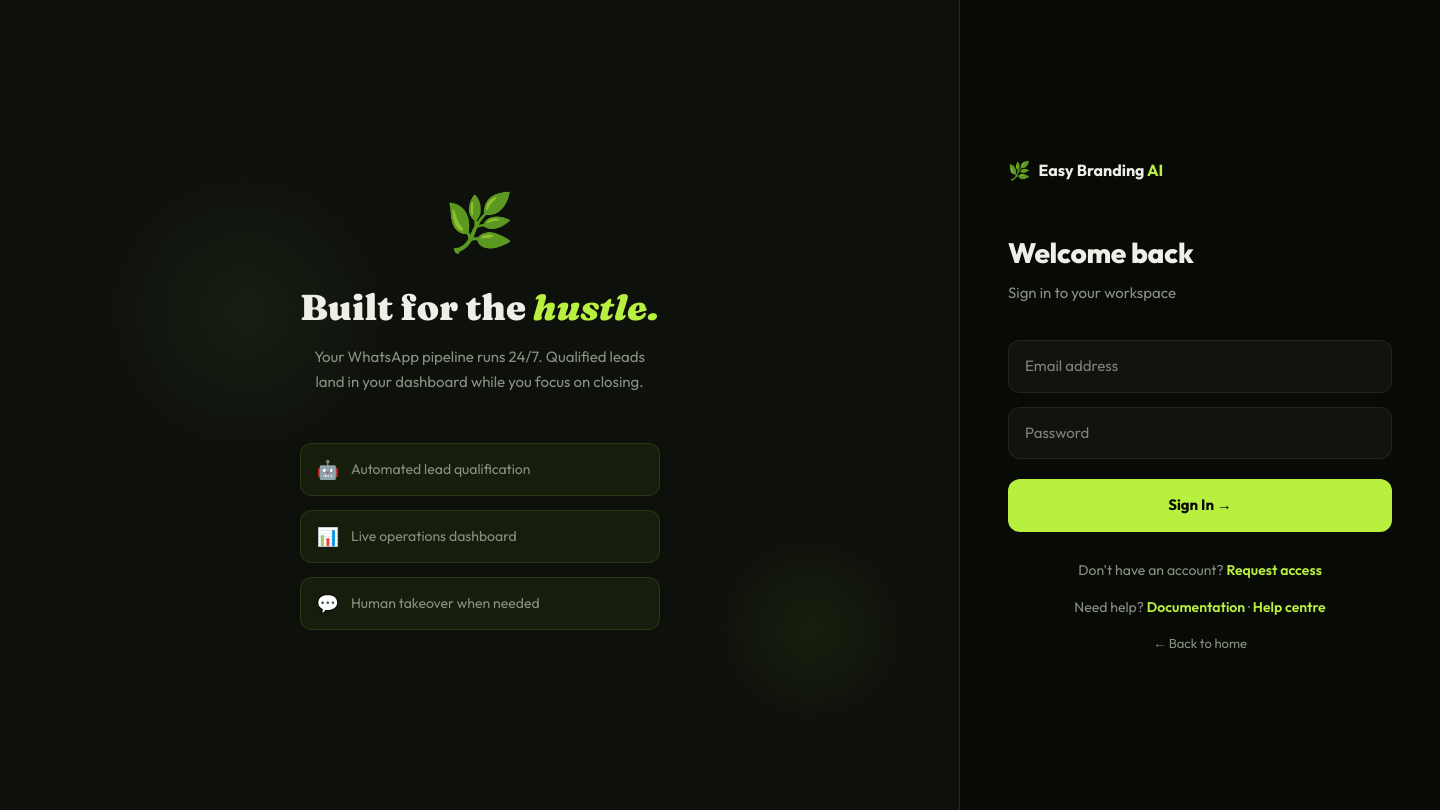
Scenario: Login › shows the server's reason and stays put when the password is wrong
In the field with placeholder "Email address": (1200, 367) [1008, 340, 1392, 393], type "owner@salon.co.za"
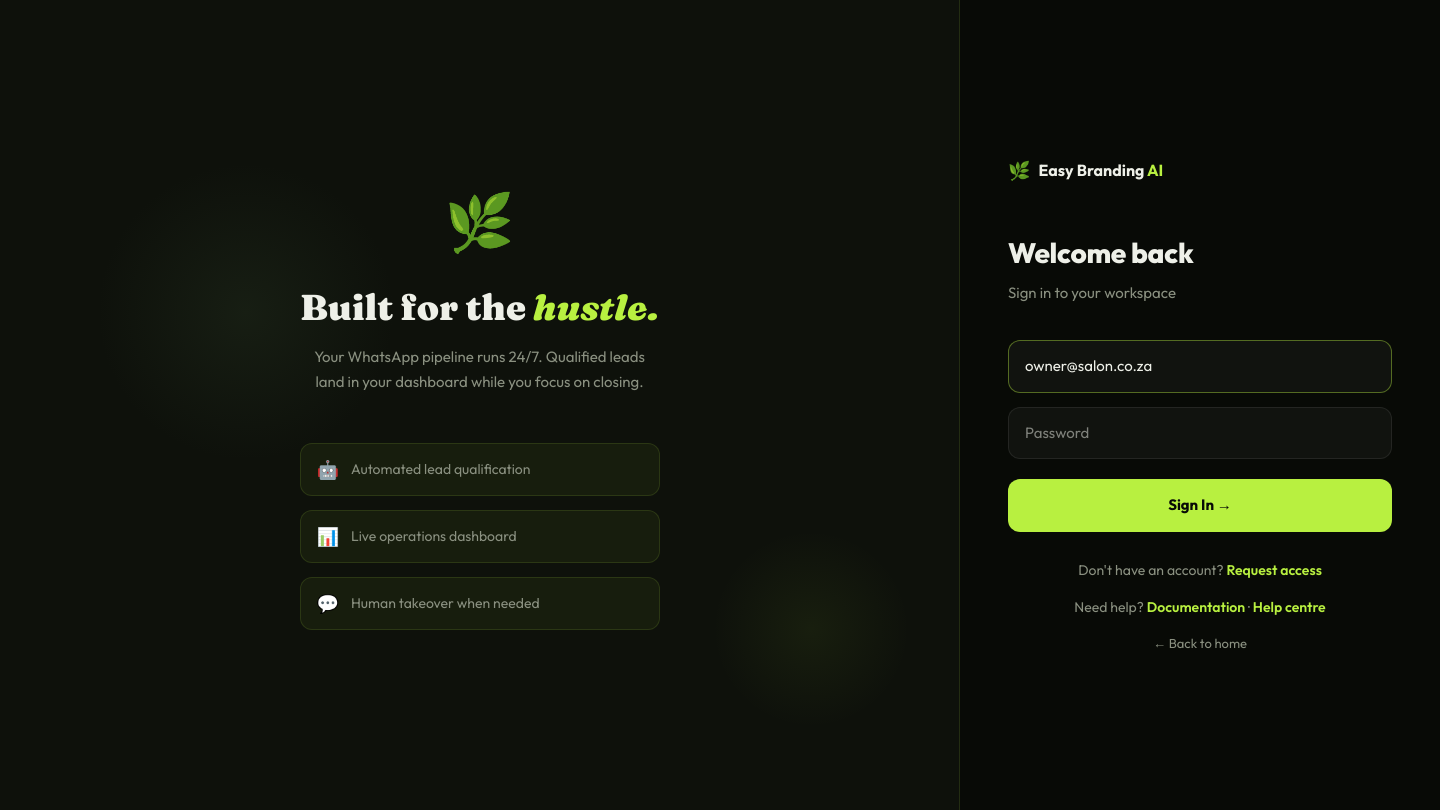
In the password field with placeholder "Password": (1200, 433) [1008, 407, 1392, 459], type "wrong"
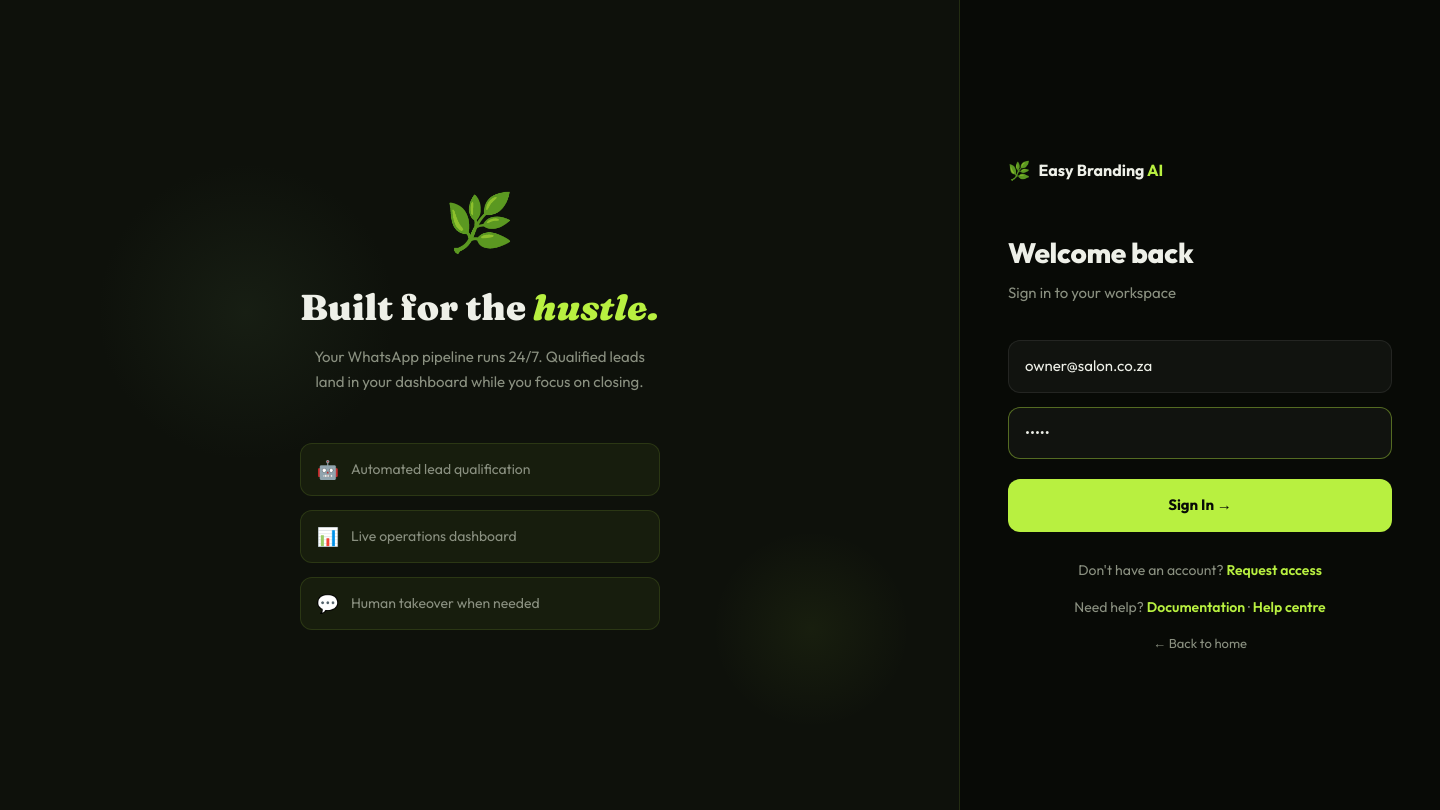
Click the button "Sign In →": (1200, 506) [1008, 479, 1392, 532]
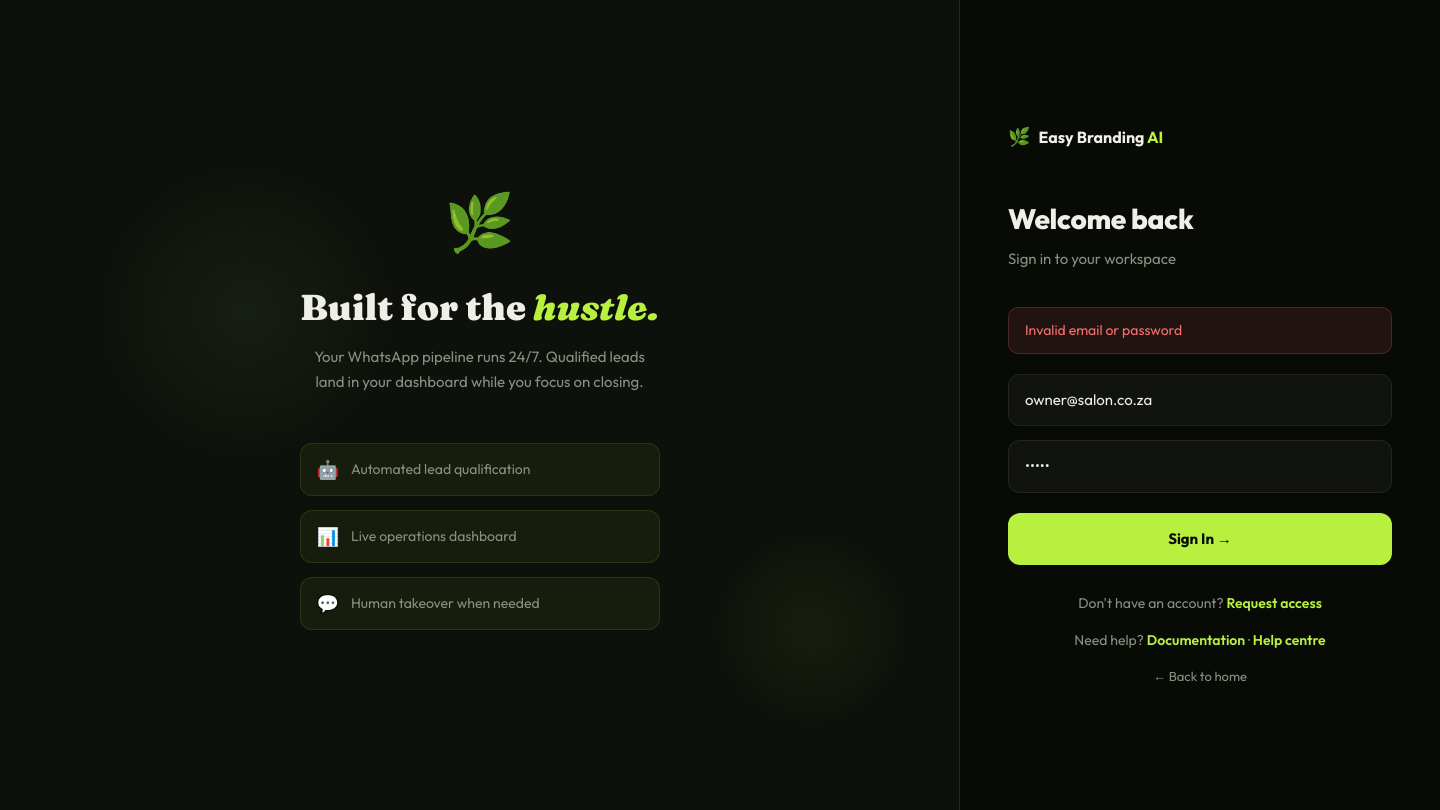
Expected: the text "Invalid email or password" is shown, [1008, 307, 1392, 354]
